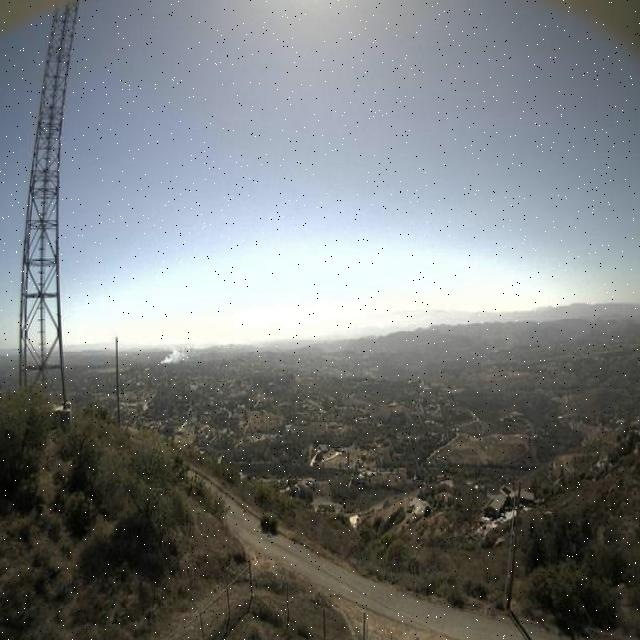smoke: (156, 334, 200, 363)
